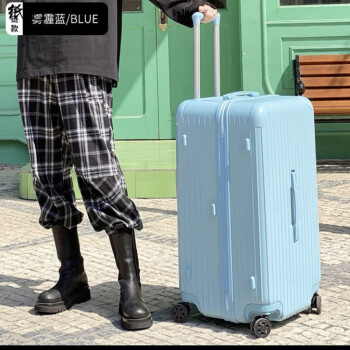box: (176, 94, 321, 323)
handle: (221, 90, 260, 99)
wheel: (249, 315, 271, 338), (171, 303, 191, 323), (306, 293, 322, 315)
